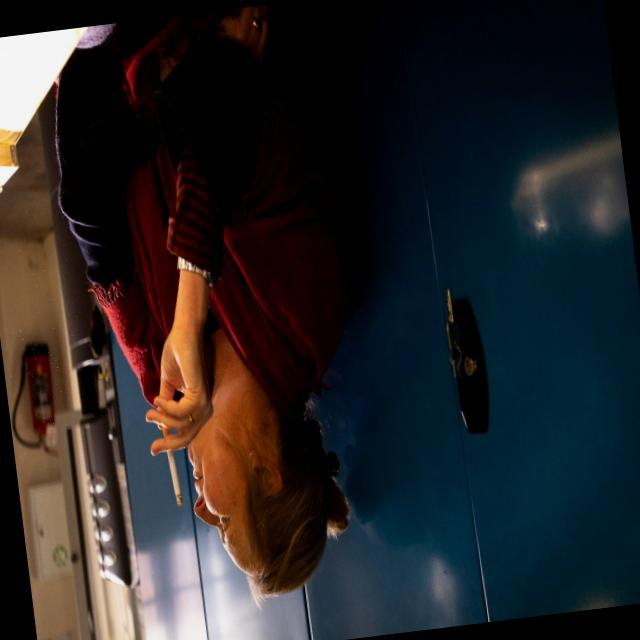smoke: (155, 437, 200, 528)
